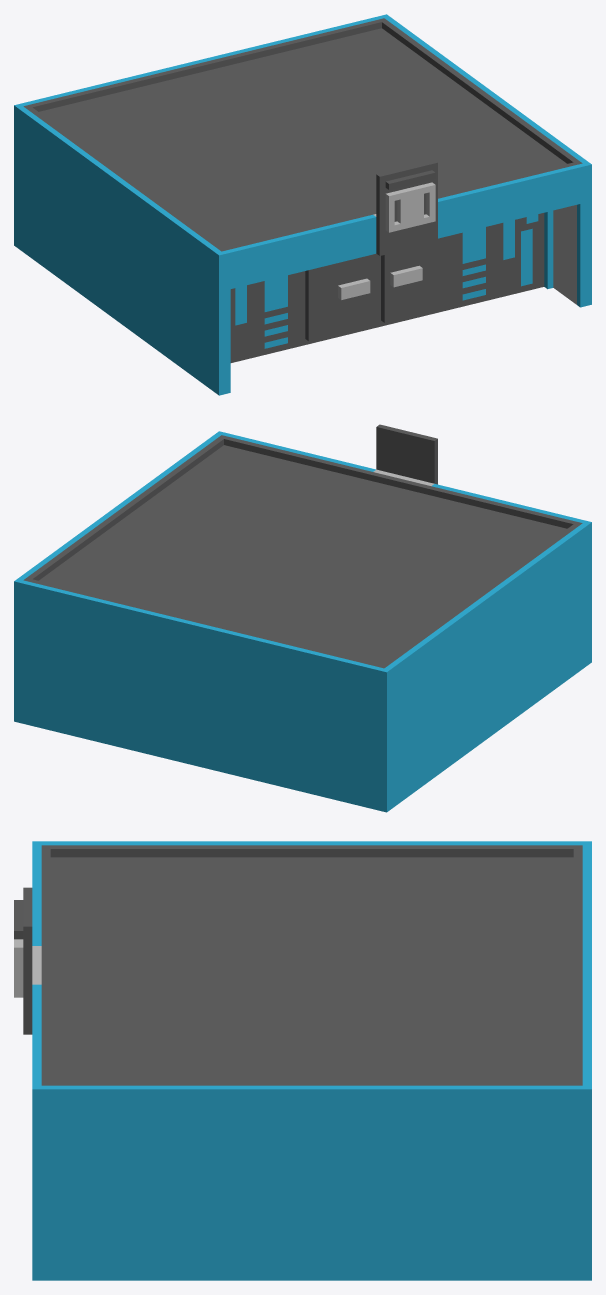
The model's file is bld_store17a.obj.
3 views of the same model, one above another, from view 1: azimuth 30°, elevation 25°; view 2: azimuth 150°, elevation 25°; view 3: azimuth 270°, elevation 25° (orthographic). The views are drawn at different scales.
Size of the model in its own units: 64 by 30 by 63.
